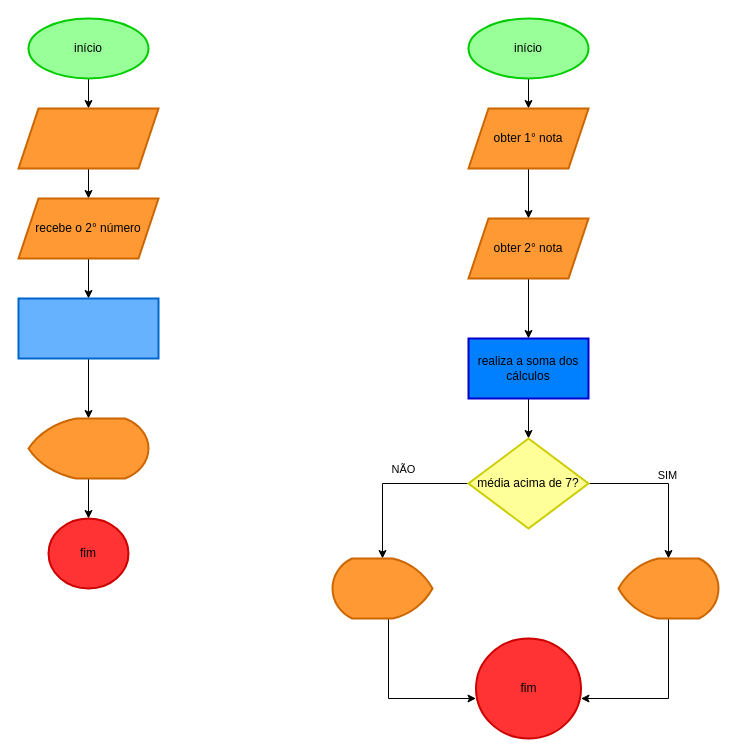
The diagram is 736 pixels wide and 756 high, and some of its shapes have lost their labels. Each missing label, with the box of its shape:
exibe o resultado da soma: (27, 417, 149, 479)
exibir "aprovado": (617, 557, 719, 619)
exibir "reprovado": (331, 557, 433, 619)
realiza a soma dos números: (17, 297, 159, 359)
recebe o 1° número: (17, 107, 159, 169)
